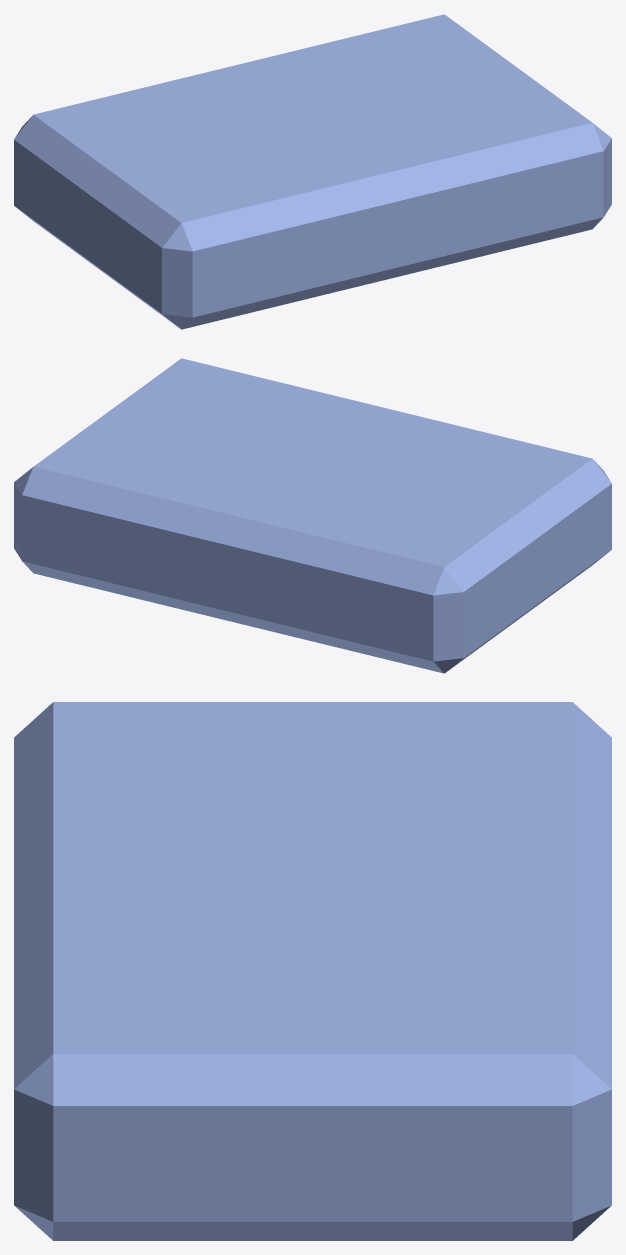
The model's file is Tile.fbx.
3 renders of one model, top to bottom at view 1: azimuth 30°, elevation 25°; view 2: azimuth 150°, elevation 25°; view 3: azimuth 270°, elevation 25°, orthographic. The views are drawn at different scales.
Visible parts, largest first — view 1: Tile; view 2: Tile; view 3: Tile.
Boxes of the visible parts, <box> form: Tile: <box>14,14,611,329</box>; Tile: <box>14,358,611,673</box>; Tile: <box>14,702,611,1240</box>.
Size of the model in its own units: 2.87 by 0.6492 by 1.88.
